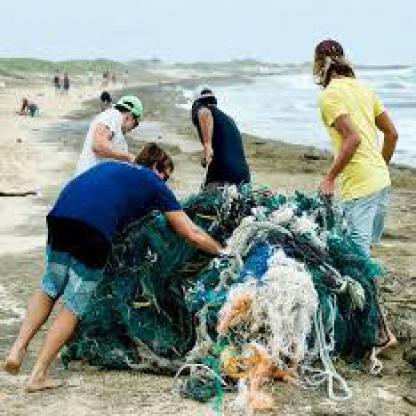Plastic: (152, 227, 355, 365)
